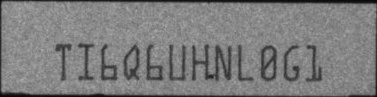0: (259, 43, 278, 82)
1: (305, 41, 323, 82)
6: (145, 42, 164, 80), (100, 41, 118, 81)
G: (282, 43, 300, 80)
H: (190, 44, 210, 80)
I: (78, 41, 94, 80)
L: (236, 43, 255, 82)
N: (214, 43, 232, 82)
Q: (122, 43, 142, 79)
T: (54, 41, 72, 81)
U: (168, 41, 186, 81)
